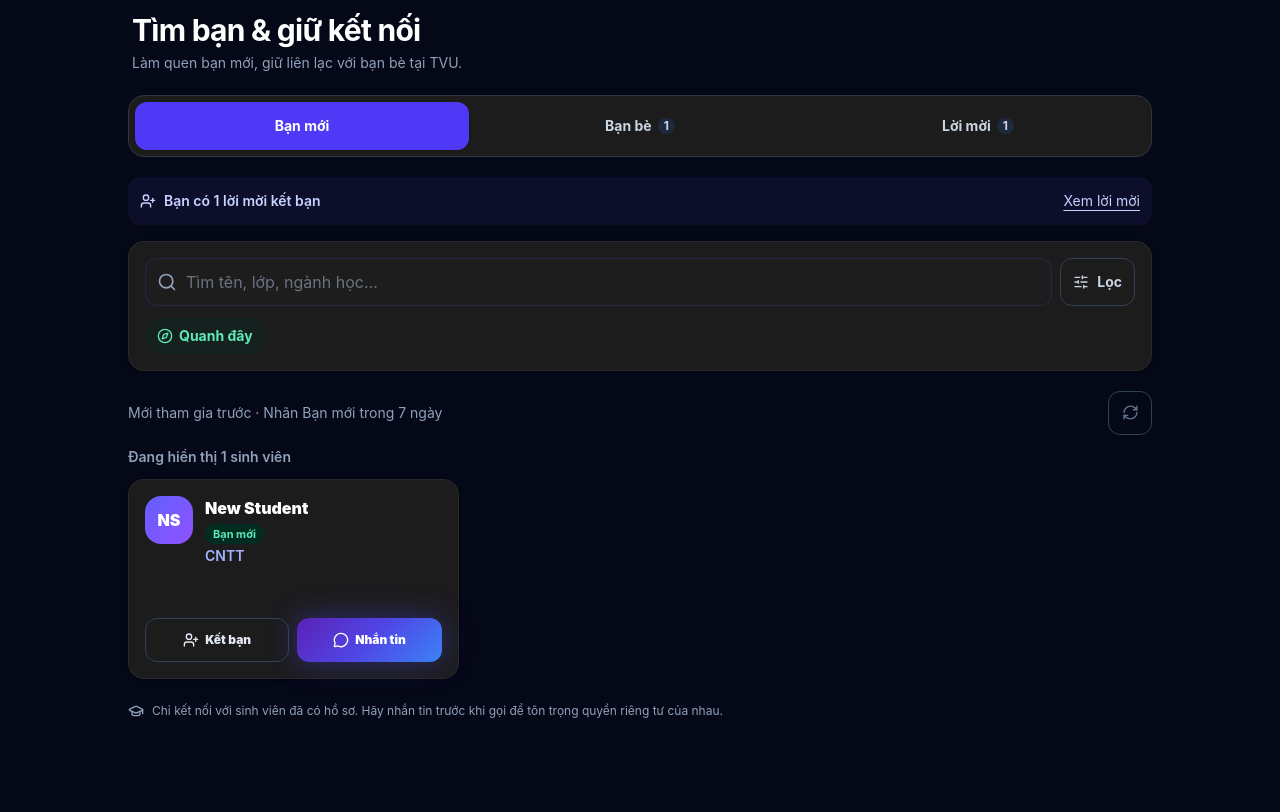
Test: StudentDirectory tabs › defaults to new students and loads the actual friend ids in the friends tab
The image size is (1280, 812).
expect the heading "New Student" is shown: met, box top-left (205, 498), bottom-right (308, 518)
Click the button "Bạn bè 1" at (640, 126), box top-left (473, 102), bottom-right (807, 150)
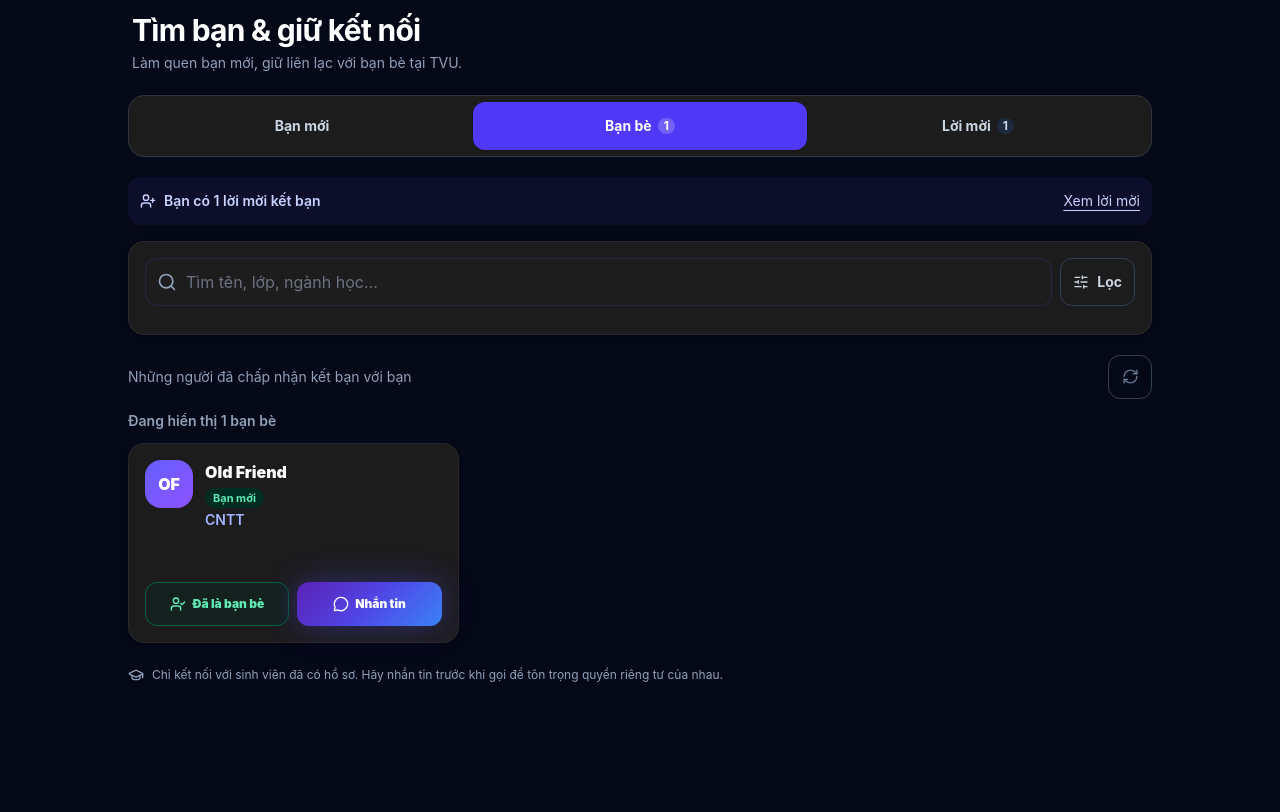
expect the heading "Old Friend" is shown: met, box top-left (205, 462), bottom-right (287, 482)
expect the heading "New Student" is gone: met
expect the button "Đã là bạn bè" is disabled: met, box top-left (145, 582), bottom-right (289, 626)
